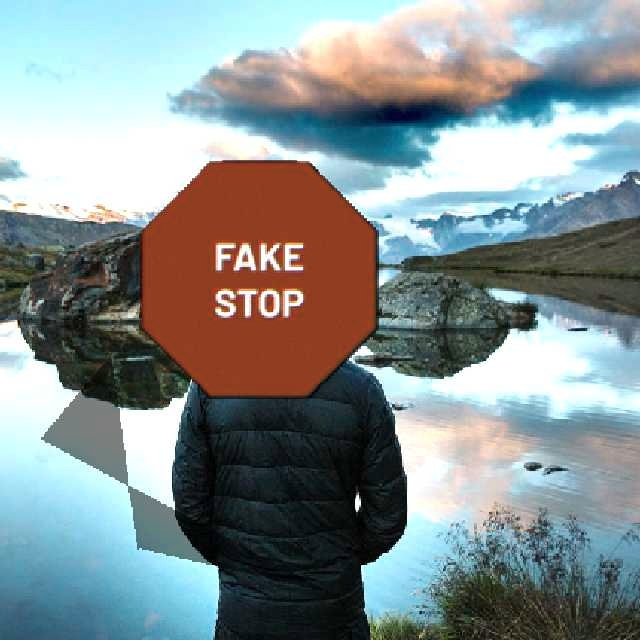FAKE_STOP: (139, 159, 377, 398)
